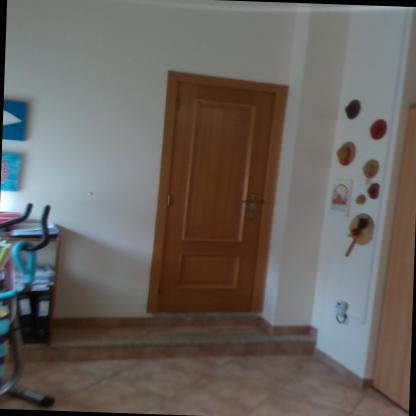closed: (147, 62, 295, 320)
